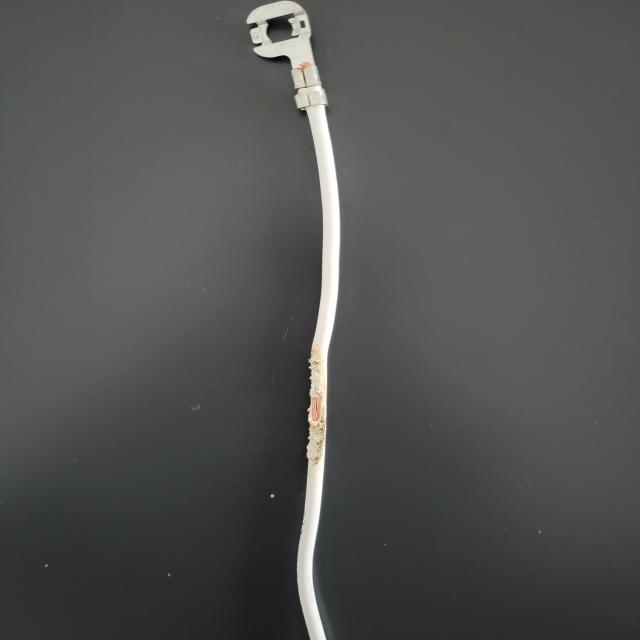defect: (256, 312, 419, 501)
